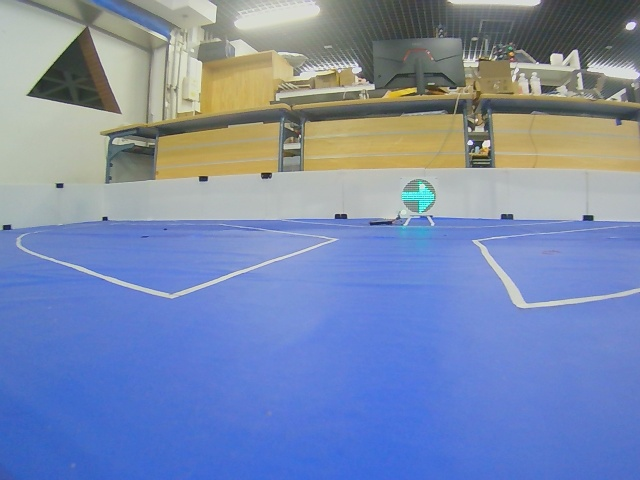right_green: (401, 179, 436, 214)
